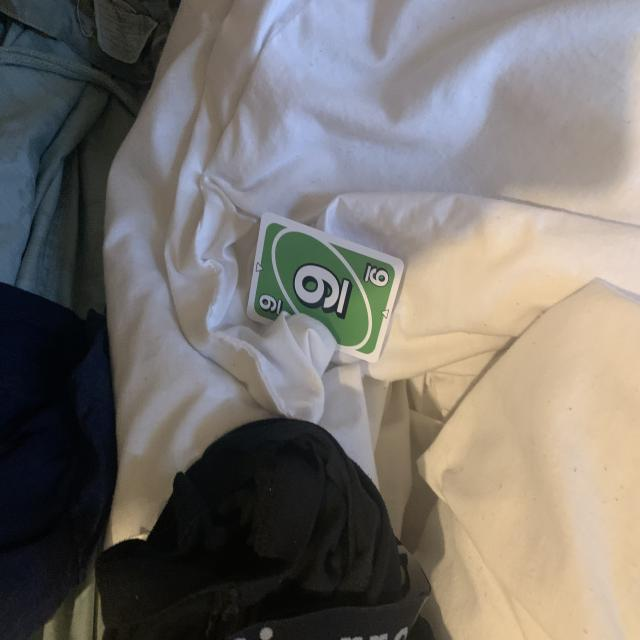lgreen-9: (257, 290, 285, 322)
